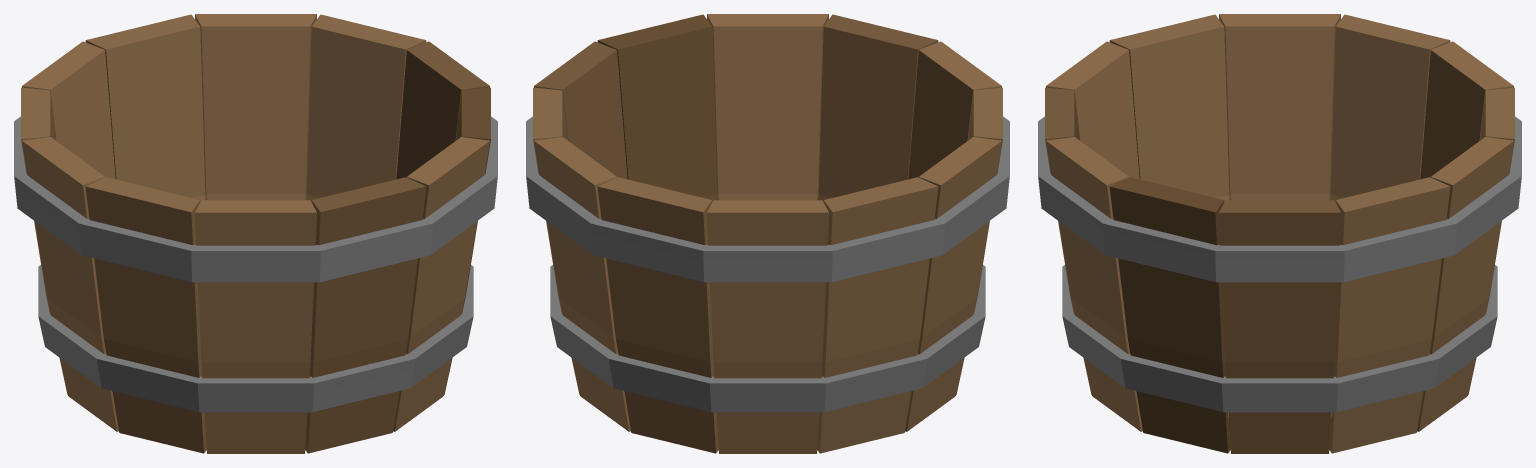
The model's file is Mesh_Props_Basket_01.FBX.
The picture shows the model from 3 angles, left to right: view 1: azimuth 30°, elevation 25°; view 2: azimuth 150°, elevation 25°; view 3: azimuth 270°, elevation 25°; orthographic projection.
Visible parts, largest first — view 1: Mesh_Props_Basket_01; view 2: Mesh_Props_Basket_01; view 3: Mesh_Props_Basket_01.
Boxes of the visible parts, x1,y1,x2,y2 form: Mesh_Props_Basket_01: (14,14,497,453); Mesh_Props_Basket_01: (526,14,1009,453); Mesh_Props_Basket_01: (1038,14,1521,453).
Size of the model in its own units: 25.19 by 14.99 by 25.19.
